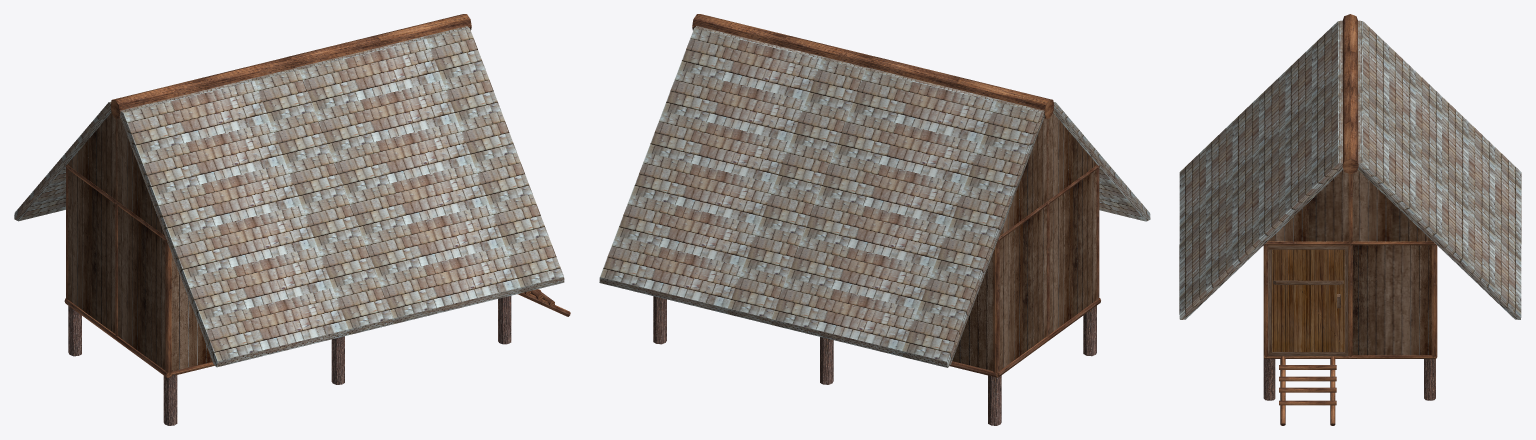
File: GaulishGranaryBig.fbx
3 views of the same model, side by side, from view 1: azimuth 30°, elevation 25°; view 2: azimuth 150°, elevation 25°; view 3: azimuth 270°, elevation 25° (orthographic). The views are drawn at different scales.
Parts seen in each view (by area): view 1: Wall.039; view 2: Wall.039; view 3: Wall.039.
Part boxes in pixels (x1,y1,x2,y2): Wall.039: (14, 14, 570, 425); Wall.039: (599, 14, 1150, 425); Wall.039: (1179, 14, 1521, 425).
Bounding box in the file's own units: 818 × 965 × 644.
